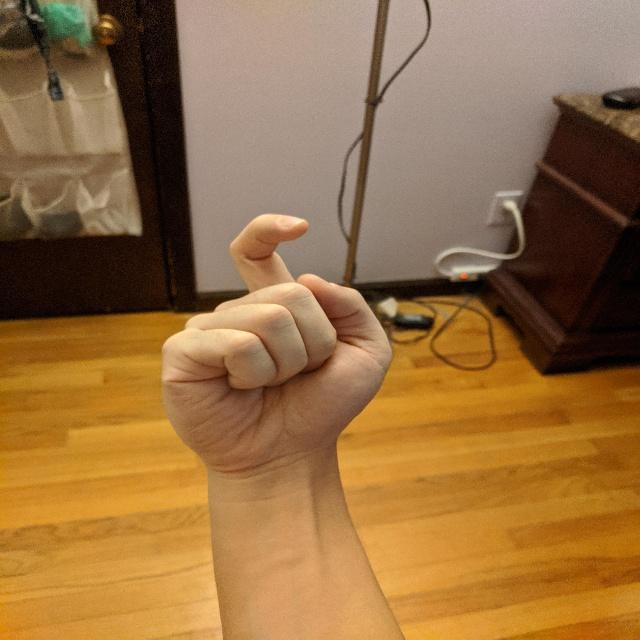X: (151, 208, 401, 478)
